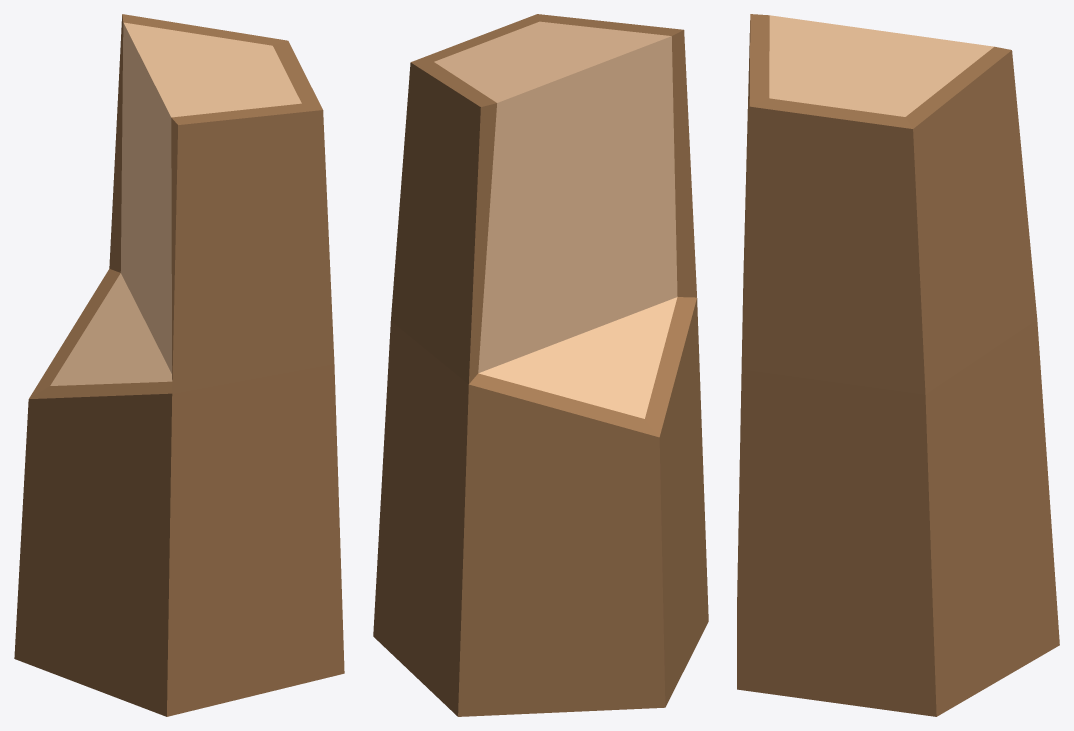
File: Pine_Stump_02_LOD.fbx
The picture shows the model from 3 angles, left to right: view 1: azimuth 30°, elevation 25°; view 2: azimuth 150°, elevation 25°; view 3: azimuth 270°, elevation 25°; orthographic projection. The views are drawn at different scales.
Parts seen in each view (by area): view 1: Pine_Stump_02_LOD0; view 2: Pine_Stump_02_LOD0; view 3: Pine_Stump_02_LOD0.
Part boxes in pixels (left/top/right/bottom): Pine_Stump_02_LOD0: left=14, top=14, right=344, bottom=716; Pine_Stump_02_LOD0: left=373, top=14, right=708, bottom=716; Pine_Stump_02_LOD0: left=737, top=14, right=1059, bottom=716.
Size of what is drawn, in the model's own units: 72.39 by 140 by 68.85.
